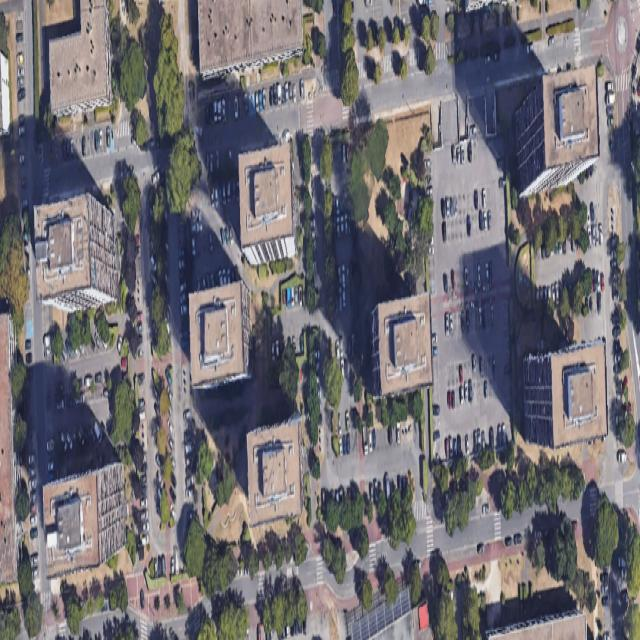immeuble: (513, 61, 601, 197), (33, 192, 117, 315), (521, 337, 609, 452), (42, 462, 127, 578), (186, 281, 258, 384), (367, 292, 435, 398), (239, 143, 296, 268), (247, 419, 307, 527)
